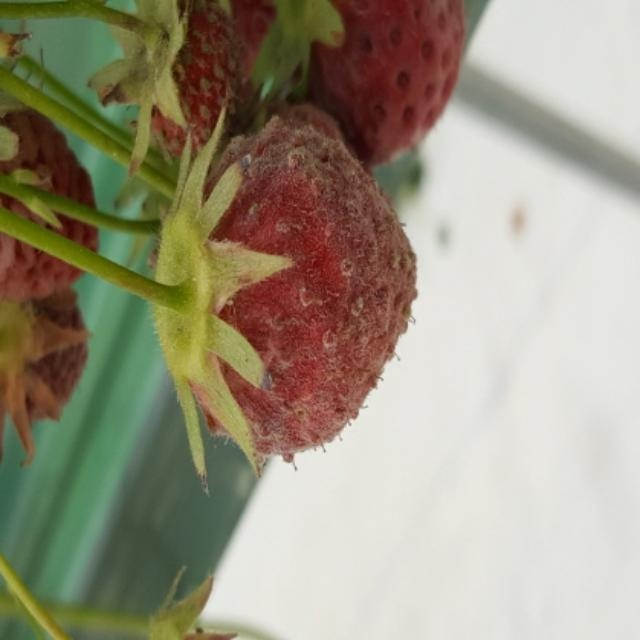Powdery Mildew Fruit: (152, 102, 419, 497), (129, 2, 259, 155)
